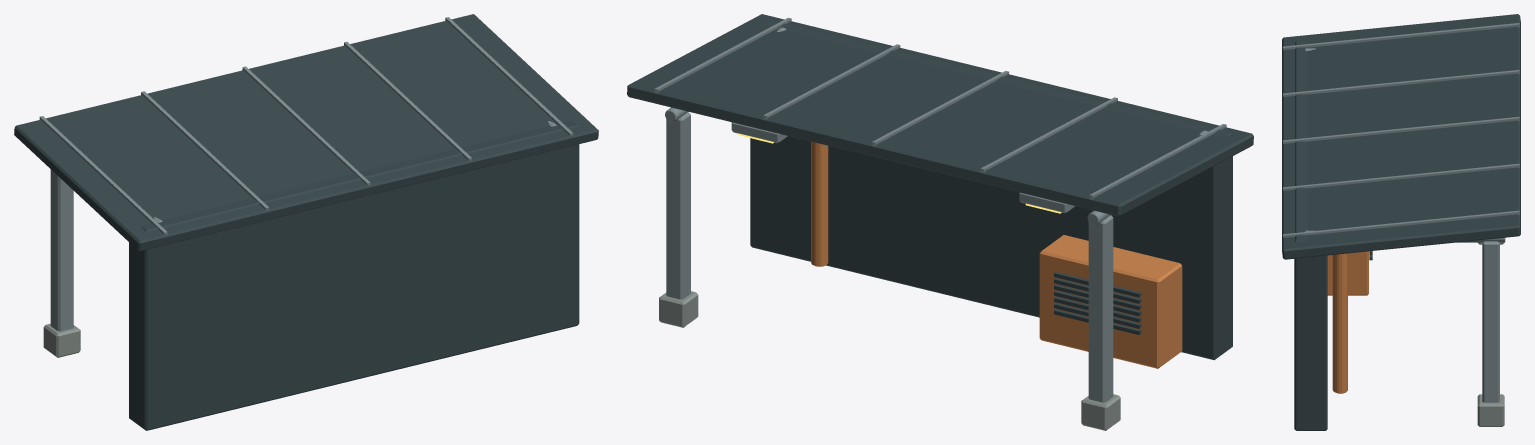
File: maintenance_shelter.glb
The picture shows the model from 3 angles, left to right: view 1: azimuth 30°, elevation 25°; view 2: azimuth 150°, elevation 25°; view 3: azimuth 270°, elevation 25°; orthographic projection. The views are drawn at different scales.
Parts seen in each view (by area): view 1: maintenance_shelter_Surface; view 2: maintenance_shelter_Surface; view 3: maintenance_shelter_Surface.
Part boxes in pixels (bbox=[...]): maintenance_shelter_Surface: bbox=[14, 14, 598, 430]; maintenance_shelter_Surface: bbox=[627, 14, 1253, 430]; maintenance_shelter_Surface: bbox=[1282, 14, 1520, 430].
Size of the model in its own units: 6.36 by 2.97 by 3.01.
Materials: 1 (1 with a texture image).
